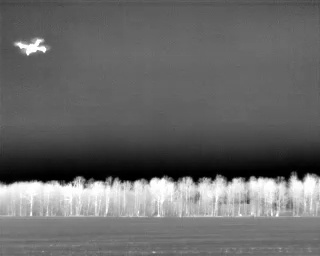DRONE: (9, 33, 54, 61)
